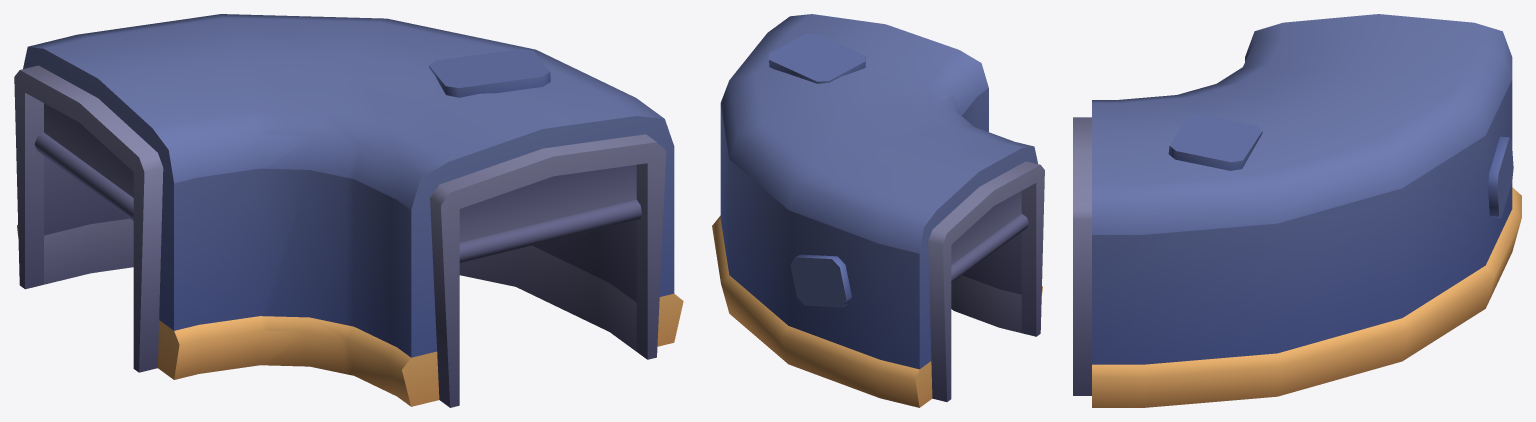
The model's file is kenney-factory-machine-bed.glb.
3 views of the same model, side by side, from view 1: azimuth 30°, elevation 25°; view 2: azimuth 150°, elevation 25°; view 3: azimuth 270°, elevation 25° (orthographic). The views are drawn at different scales.
Visible parts, largest first — view 1: machine-bed; view 2: machine-bed; view 3: machine-bed.
Part boxes in pixels (<box>): machine-bed: <box>14,14,683,407</box>; machine-bed: <box>712,14,1044,407</box>; machine-bed: <box>1073,14,1521,407</box>.
Bounding box in the file's own units: 3.53 × 1.95 × 3.53.
Materials: 1 (1 with a texture image).
